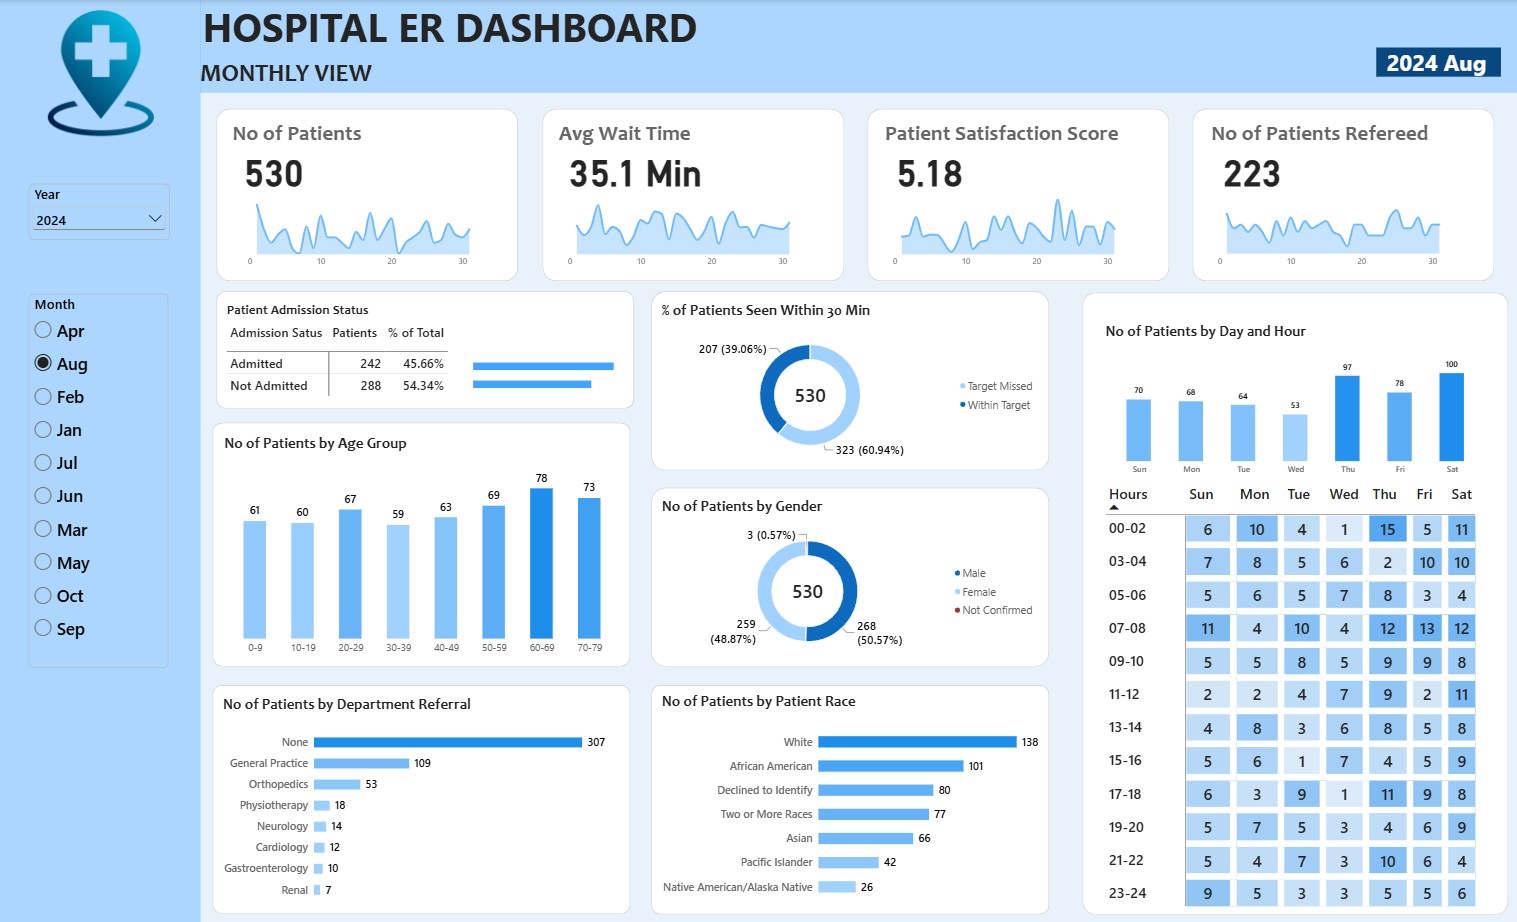

This screenshot's page, from the dashboard's own definition file:
{"tool":"powerbi","page":{"name":"Monthly View","canvas":[2300,1400],"ordinal":0},"visuals":[{"type":"shape","box":[0,0,310,1400],"z":0},{"type":"shape","box":[310,0,1990,140],"z":1000},{"type":"textbox","box":[312.3,0,1952.5,87.5],"z":2000},{"type":"textbox","box":[310,87.5,530,52.5],"z":3000},{"type":"slicer","fields":{"Values":["Date Table.Year"]},"box":[50,277.5,212.5,85],"z":4000},{"type":"shape","box":[334,164,455,260],"z":5000},{"type":"cardVisual","fields":{"Data":["Dax Measures.No of Patients"]},"box":[358,226,184,70],"z":6000},{"type":"slicer","fields":{"Values":["Date Table.Month Name"]},"box":[50.5,442.6,210.2,563.8],"z":7000},{"type":"textbox","box":[358,180,218,52],"z":8000},{"type":"areaChart","fields":{"Category":["Date Table.Date.Variation.Date Hierarchy.Day"],"Y":["Dax Measures.No of Patients"]},"box":[358,278,426,146],"z":9000},{"type":"cardVisual","fields":{"Data":["Min(Date Table.Date and Year)"]},"box":[2083.4,70.7,188,44],"z":10000},{"type":"shape","box":[824.7,164,455,260],"z":11000},{"type":"shape","box":[1315.3,164,455,260],"z":12000},{"type":"shape","box":[1806,164,455,260],"z":13000},{"type":"textbox","box":[850,180,218,52],"z":14000},{"type":"textbox","box":[1834,180,342,52],"z":15000},{"type":"textbox","box":[1342,180,360,52],"z":16000},{"type":"cardVisual","fields":{"Data":["Dax Measures.Average Wait time"]},"box":[850,226,248,70],"z":17000},{"type":"areaChart","fields":{"Category":["Date Table.Date.Variation.Date Hierarchy.Day"],"Y":["Avg(Hospital ER_Data.Patient Waittime)"]},"box":[840,278,426,146],"z":18000},{"type":"cardVisual","fields":{"Data":["Dax Measures.Satisfaction Score"]},"box":[1342,226,248,70],"z":19000},{"type":"areaChart","fields":{"Category":["Date Table.Date.Variation.Date Hierarchy.Day"],"Y":["Dax Measures.Satisfaction Score"]},"box":[1330,278,426,146],"z":20000},{"type":"cardVisual","fields":{"Data":["Dax Measures.No of Patients Referred"]},"box":[1836,226,248,70],"z":21000},{"type":"areaChart","fields":{"Category":["Date Table.Date.Variation.Date Hierarchy.Day"],"Y":["Dax Measures.No of Patients Referred"]},"box":[1820,278,426,146],"z":22000},{"type":"shape","box":[333,439.3,630,177],"z":23000},{"type":"pivotTable","title":"Patient Admission Status","fields":{"Rows":["Hospital ER_Data.Admission Satus"],"Values":["Dax Measures.No of Patients1","Divide(Dax Measures.No of Patients, ScopedEval(Dax Measures.No of Patients, []))"]},"box":[332.9,440,375.7,177.1],"z":24000},{"type":"barChart","fields":{"Category":["Hospital ER_Data.Admission Satus"],"Y":["Dax Measures.No of Patients"]},"box":[705.7,511.4,252.9,105.7],"z":25000},{"type":"shape","box":[328.6,637.1,630,368],"z":26000},{"type":"columnChart","fields":{"Category":["Hospital ER_Data.Age Group"],"Y":["Dax Measures.No of Patients"]},"box":[330,638,630,368.6],"z":27000},{"type":"shape","box":[327.5,1032.5,630,345],"z":28000},{"type":"barChart","fields":{"Category":["Hospital ER_Data.Department Referral"],"Y":["Dax Measures.No of Patients"]},"box":[328,1032,630,345.6],"z":29000},{"type":"shape","box":[990,440,600,270],"z":30000},{"type":"donutChart","title":"% of Patients Seen Within 30 Min","fields":{"Category":["Hospital ER_Data.Wait Time"],"Y":["Dax Measures.No of Patients"]},"box":[990,440,600,270],"z":31000},{"type":"shape","box":[990,736,600,270],"z":32000},{"type":"donutChart","title":"No of Patients by Gender","fields":{"Category":["Hospital ER_Data.Patient Gender"],"Y":["Dax Measures.No of Patients"]},"box":[990,736,600,270],"z":33000},{"type":"shape","box":[990,1032,600,346],"z":34000},{"type":"barChart","fields":{"Category":["Hospital ER_Data.Patient Race"],"Y":["Dax Measures.No of Patients"]},"box":[990,1030,600,348],"z":35000},{"type":"shape","box":[1638.9,440.5,642,938],"z":36000},{"type":"pivotTable","fields":{"Columns":["Date Table.Day Name"],"Rows":["Hospital ER_Data.Hour group"],"Values":["Dax Measures.No of Patients"]},"box":[1659.1,711.3,606.2,677],"z":37000},{"type":"columnChart","title":"No of Patients by Day and Hour","fields":{"Category":["Date Table.Day Name"],"Y":["Dax Measures.No of Patients"]},"box":[1659.1,470.8,606.2,264.7],"z":38000},{"type":"image","box":[57.5,15,202.5,190],"z":39000}]}

Visuals, with their boxes in screenshot pixels (x1, y1, x2, y2), scaled from the page's 2300x1400 canvas onto the 1517x922 screenshot:
shape: [x1=0, y1=0, x2=204, y2=921]
shape: [x1=204, y1=0, x2=1516, y2=92]
textbox: [x1=206, y1=0, x2=1494, y2=58]
textbox: [x1=204, y1=58, x2=554, y2=92]
slicer - Date Table.Year: [x1=33, y1=183, x2=173, y2=239]
shape: [x1=220, y1=108, x2=520, y2=279]
cardVisual - Dax Measures.No of Patients: [x1=236, y1=149, x2=357, y2=195]
slicer - Date Table.Month Name: [x1=33, y1=291, x2=172, y2=663]
textbox: [x1=236, y1=119, x2=380, y2=153]
areaChart - Date Table.Date.Variation.Date Hierarchy.Day x Dax Measures.No of Patients: [x1=236, y1=183, x2=517, y2=279]
cardVisual - Min(Date Table.Date and Year): [x1=1374, y1=47, x2=1498, y2=76]
shape: [x1=544, y1=108, x2=844, y2=279]
shape: [x1=868, y1=108, x2=1168, y2=279]
shape: [x1=1191, y1=108, x2=1491, y2=279]
textbox: [x1=561, y1=119, x2=704, y2=153]
textbox: [x1=1210, y1=119, x2=1435, y2=153]
textbox: [x1=885, y1=119, x2=1123, y2=153]
cardVisual - Dax Measures.Average Wait time: [x1=561, y1=149, x2=724, y2=195]
areaChart - Date Table.Date.Variation.Date Hierarchy.Day x Avg(Hospital ER_Data.Patient Waittime): [x1=554, y1=183, x2=835, y2=279]
cardVisual - Dax Measures.Satisfaction Score: [x1=885, y1=149, x2=1049, y2=195]
areaChart - Date Table.Date.Variation.Date Hierarchy.Day x Dax Measures.Satisfaction Score: [x1=877, y1=183, x2=1158, y2=279]
cardVisual - Dax Measures.No of Patients Referred: [x1=1211, y1=149, x2=1375, y2=195]
areaChart - Date Table.Date.Variation.Date Hierarchy.Day x Dax Measures.No of Patients Referred: [x1=1200, y1=183, x2=1481, y2=279]
shape: [x1=220, y1=289, x2=635, y2=406]
"Patient Admission Status" pivotTable: [x1=220, y1=290, x2=467, y2=406]
barChart - Hospital ER_Data.Admission Satus x Dax Measures.No of Patients: [x1=465, y1=337, x2=632, y2=406]
shape: [x1=217, y1=420, x2=632, y2=662]
columnChart - Hospital ER_Data.Age Group x Dax Measures.No of Patients: [x1=218, y1=420, x2=633, y2=663]
shape: [x1=216, y1=680, x2=632, y2=907]
barChart - Hospital ER_Data.Department Referral x Dax Measures.No of Patients: [x1=216, y1=680, x2=632, y2=907]
shape: [x1=653, y1=290, x2=1049, y2=468]
"% of Patients Seen Within 30 Min" donutChart: [x1=653, y1=290, x2=1049, y2=468]
shape: [x1=653, y1=485, x2=1049, y2=663]
"No of Patients by Gender" donutChart: [x1=653, y1=485, x2=1049, y2=663]
shape: [x1=653, y1=680, x2=1049, y2=908]
barChart - Hospital ER_Data.Patient Race x Dax Measures.No of Patients: [x1=653, y1=678, x2=1049, y2=908]
shape: [x1=1081, y1=290, x2=1504, y2=908]
pivotTable - Date Table.Day Name x Hospital ER_Data.Hour group: [x1=1094, y1=468, x2=1494, y2=914]
"No of Patients by Day and Hour" columnChart: [x1=1094, y1=310, x2=1494, y2=484]
image: [x1=38, y1=10, x2=171, y2=135]
